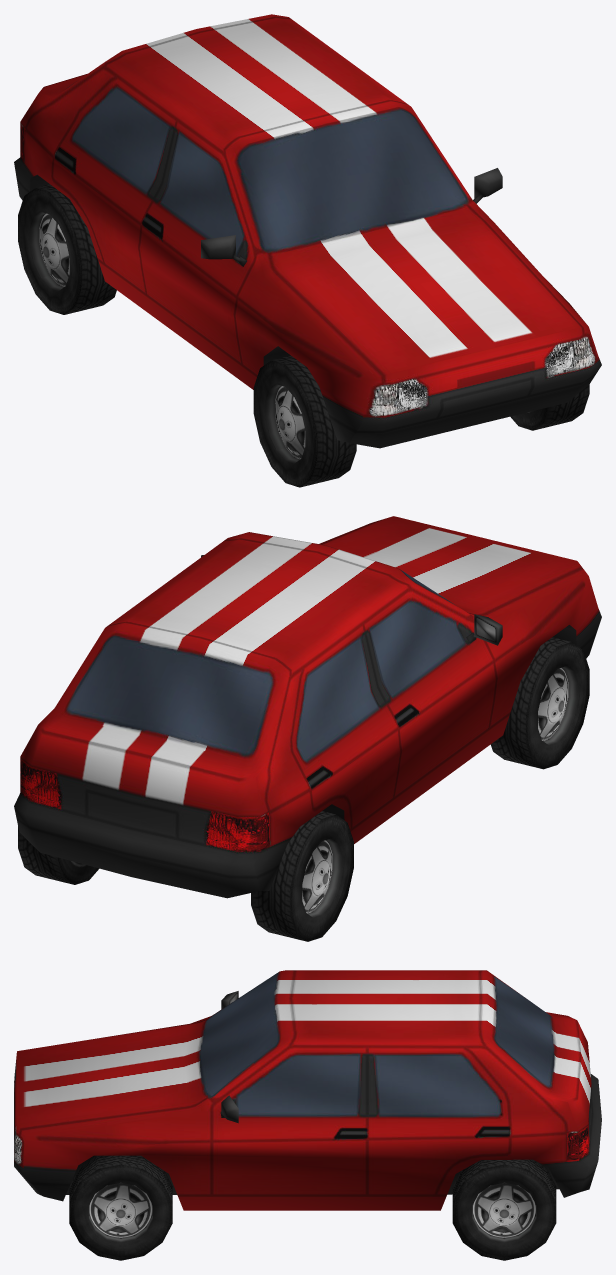
File: LopoCar.FBX
3 renders of one model, top to bottom at view 1: azimuth 30°, elevation 25°; view 2: azimuth 150°, elevation 25°; view 3: azimuth 270°, elevation 25°, orthographic. The views are drawn at different scales.
Parts seen in each view (by area): view 1: vehicle-03, vehicle-03-wheel-FR, vehicle-03-wheel-BR, vehicle-03-wheel-FL; view 2: vehicle-03, vehicle-03-wheel-BR, vehicle-03-wheel-FR, vehicle-03-wheel-BL; view 3: vehicle-03, vehicle-03-wheel-FL, vehicle-03-wheel-BL.
Part boxes in pixels (x1=…): vehicle-03: x1=14, y1=14, x2=601, y2=448; vehicle-03-wheel-FR: x1=253, y1=355, x2=356, y2=487; vehicle-03-wheel-BR: x1=18, y1=184, x2=116, y2=314; vehicle-03-wheel-FL: x1=510, y1=384, x2=589, y2=430; vehicle-03: x1=14, y1=516, x2=601, y2=898; vehicle-03-wheel-BR: x1=251, y1=811, x2=353, y2=941; vehicle-03-wheel-FR: x1=490, y1=637, x2=589, y2=769; vehicle-03-wheel-BL: x1=18, y1=826, x2=99, y2=884; vehicle-03: x1=14, y1=970, x2=601, y2=1210; vehicle-03-wheel-FL: x1=69, y1=1155, x2=172, y2=1260; vehicle-03-wheel-BL: x1=452, y1=1159, x2=556, y2=1260.
Size of the model in its own units: 269 by 221 by 567.
Materials: 2 (2 with a texture image).
